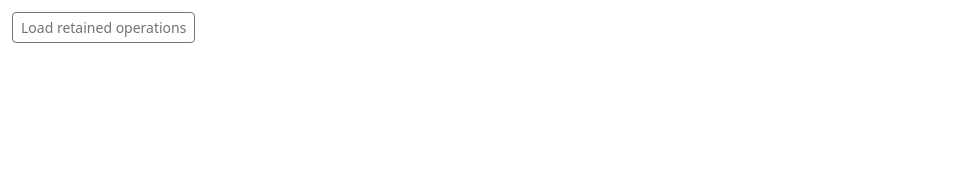
Retained recovery never replaces a missing result or changed view context › reconciles the original receipt and preserves the identity on maintenance failure
Click the button "Load retained operations" at (104, 28), box [12,12,196,43]
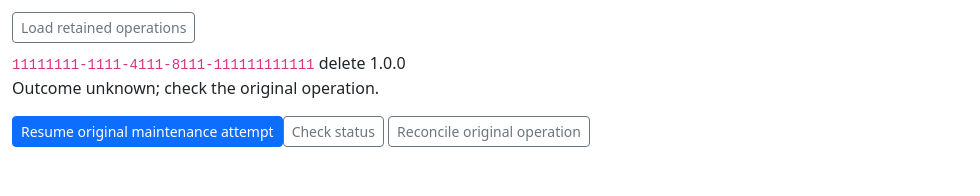
Now the text "11111111-1111-4111-8111-111111111111" is shown, box [12,57,314,73]
Click the button "Reconcile original operation" at (489, 132), box [388,116,590,147]
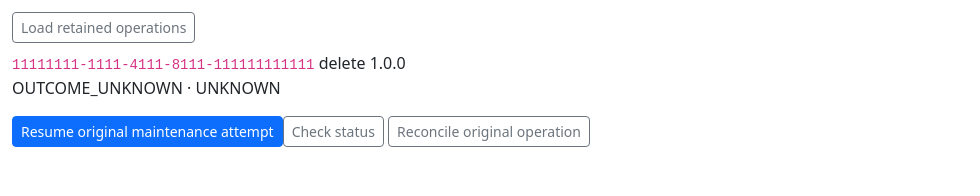
Now the text "OUTCOME_UNKNOWN · UNKNOWN" is shown, box [12,77,281,99]
Click the button "Resume original maintenance attempt" at (147, 132), box [12,116,283,147]
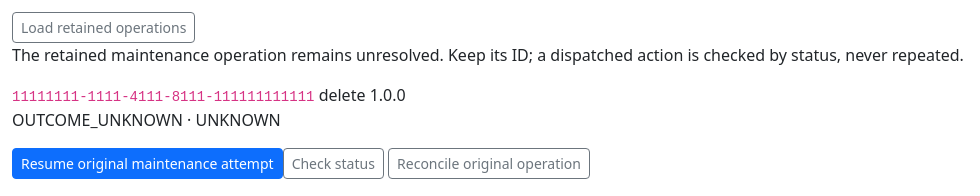
Now the text "11111111-1111-4111-8111-111111111111" is shown, box [12,89,314,105]
Now the message is shown, box [12,44,964,66]
